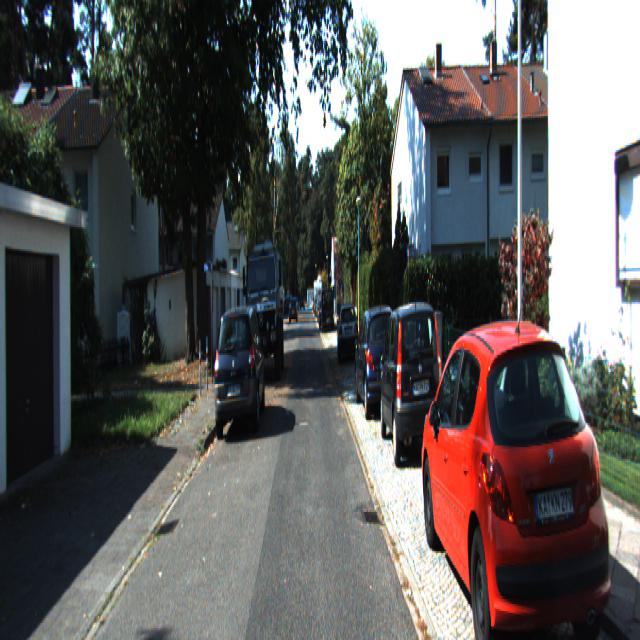Car: (418, 309, 623, 638), (377, 299, 444, 467), (213, 304, 266, 444), (354, 305, 402, 425), (245, 240, 283, 376), (338, 302, 359, 365), (321, 288, 335, 333)
